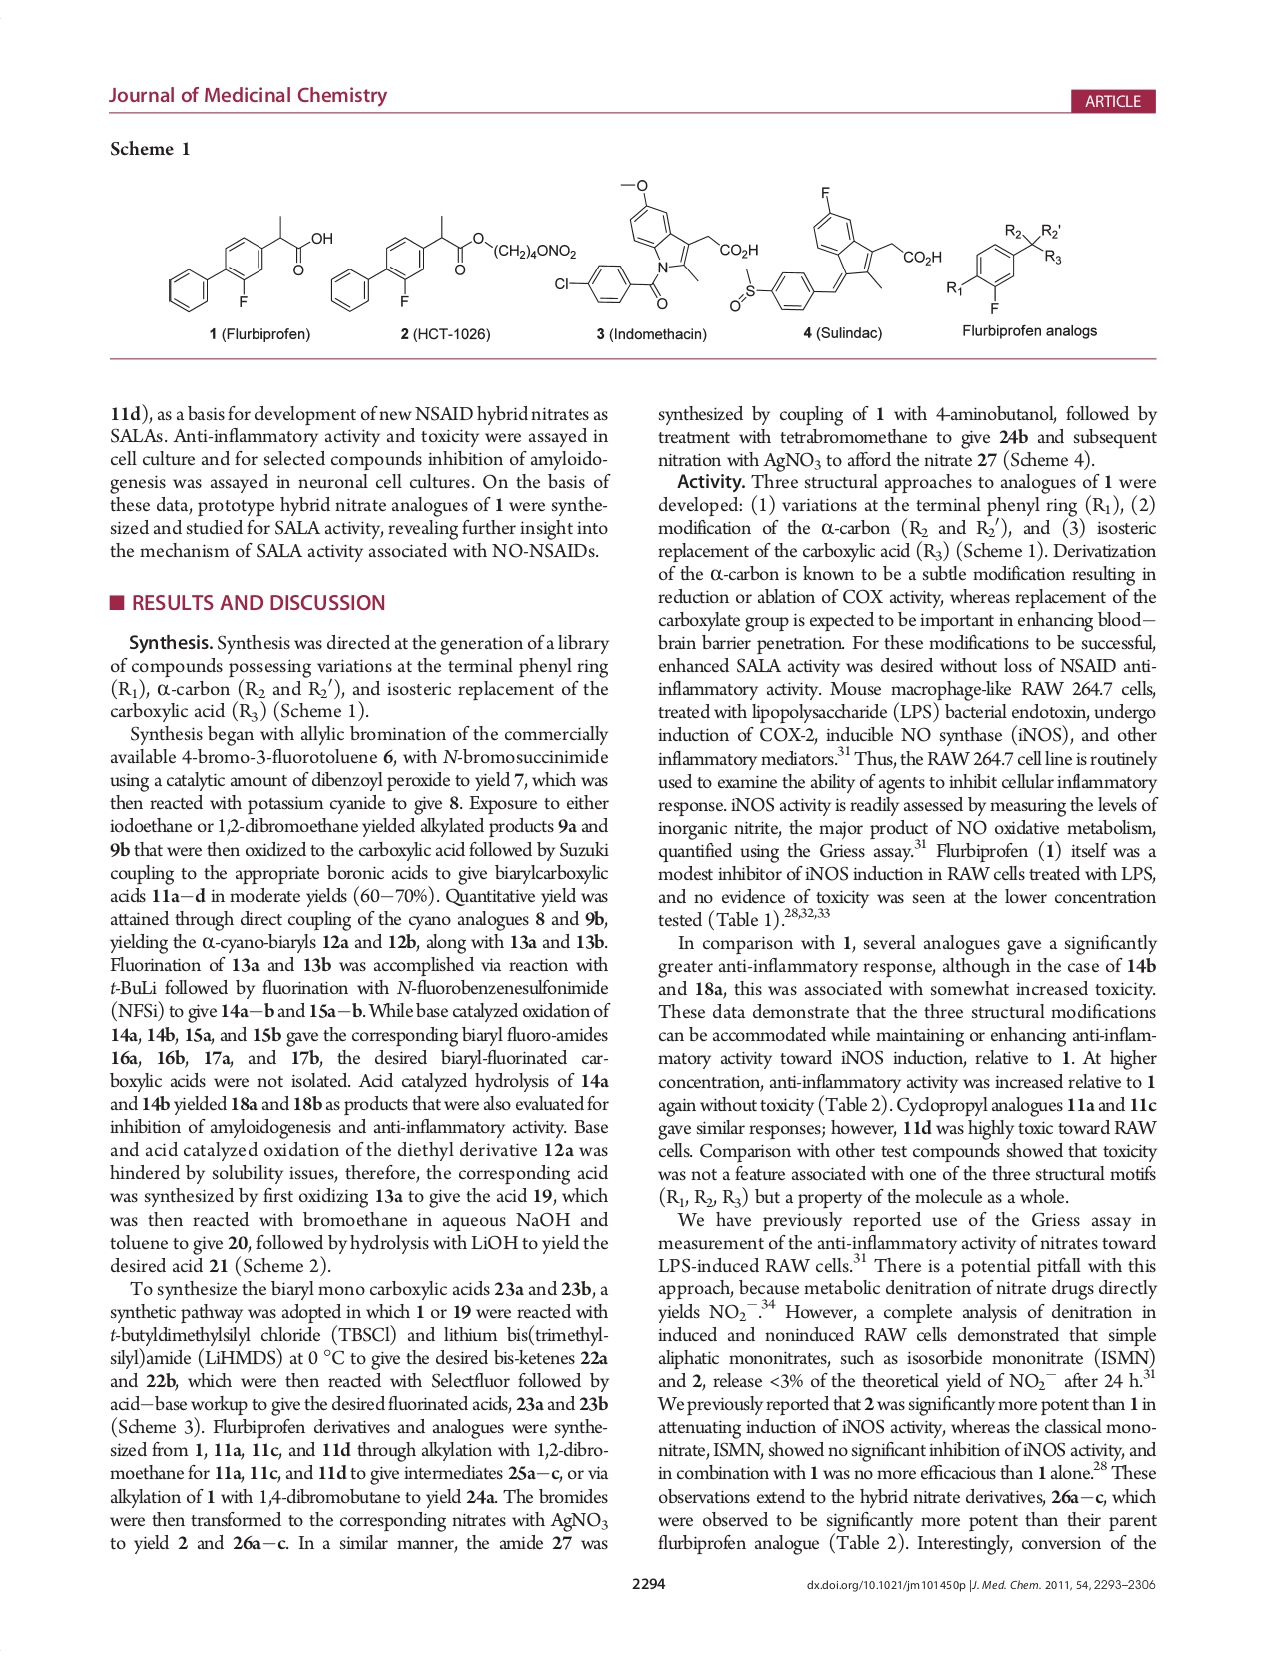exist_molecular: (553, 178, 762, 313), (727, 184, 944, 313), (328, 210, 574, 313), (162, 211, 335, 317), (946, 217, 1063, 317)
